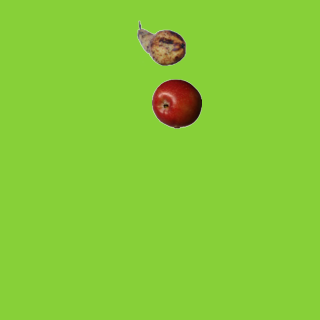Apple Braeburn: (151, 78, 201, 128)
Pear Abate: (136, 18, 186, 68)
